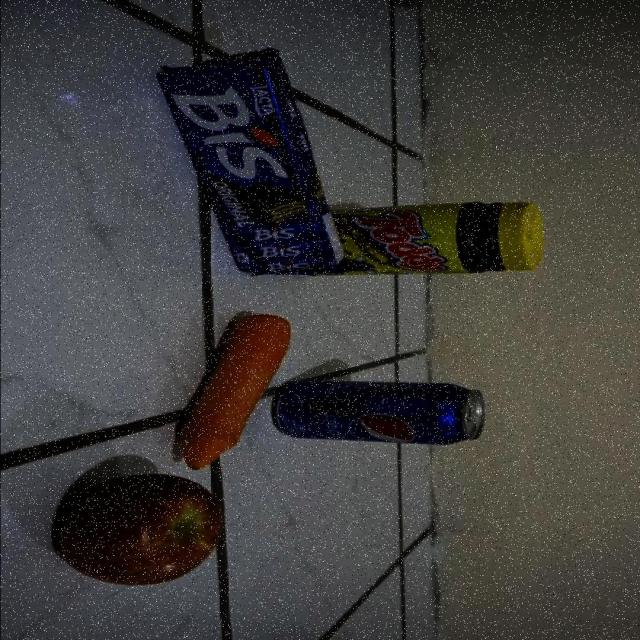Apple: (55, 472, 228, 589)
Carrot: (170, 310, 292, 469)
ChocolatePowder: (339, 199, 546, 279)
SodaCan: (299, 379, 486, 446)
